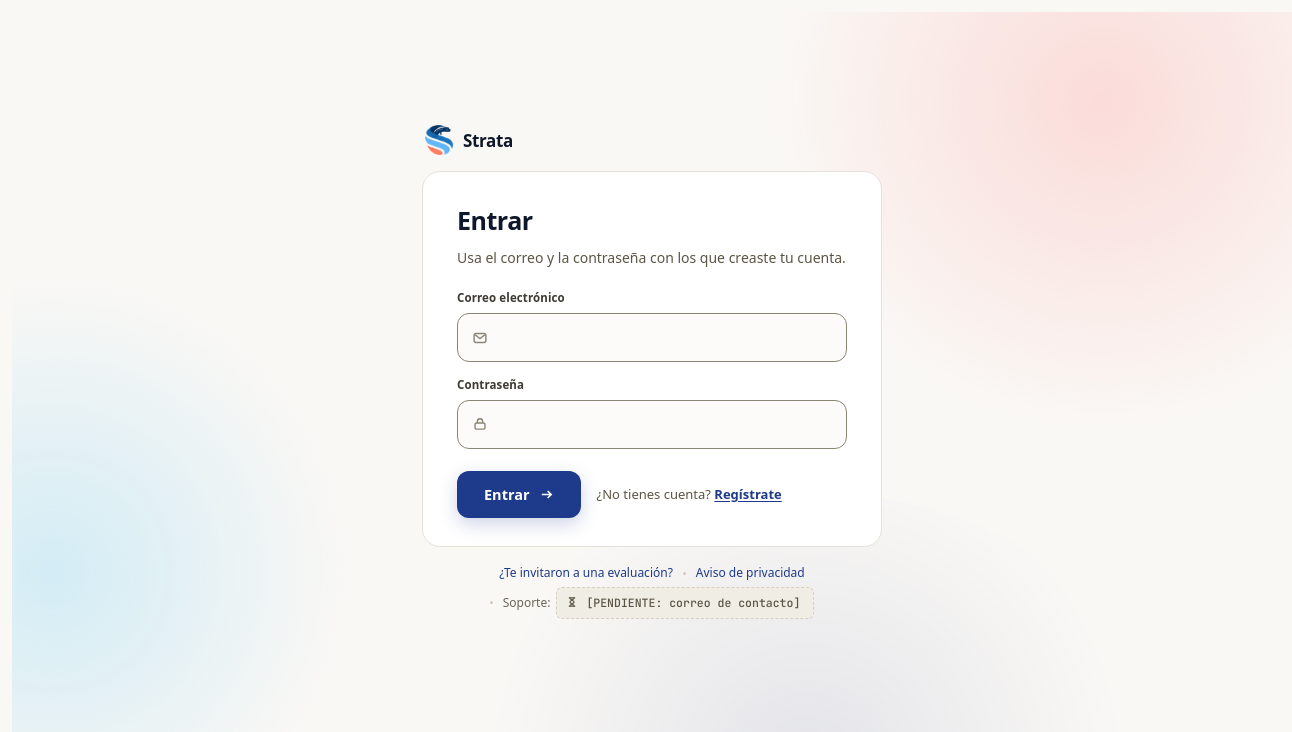
Scenario: Login › si no puede abrir la ruta de origen, conserva la redirección de siempre
In the field labelled "Correo electrónico": [667, 338] box top-left (488, 314), bottom-right (846, 361), type "ana@empresa.mx"
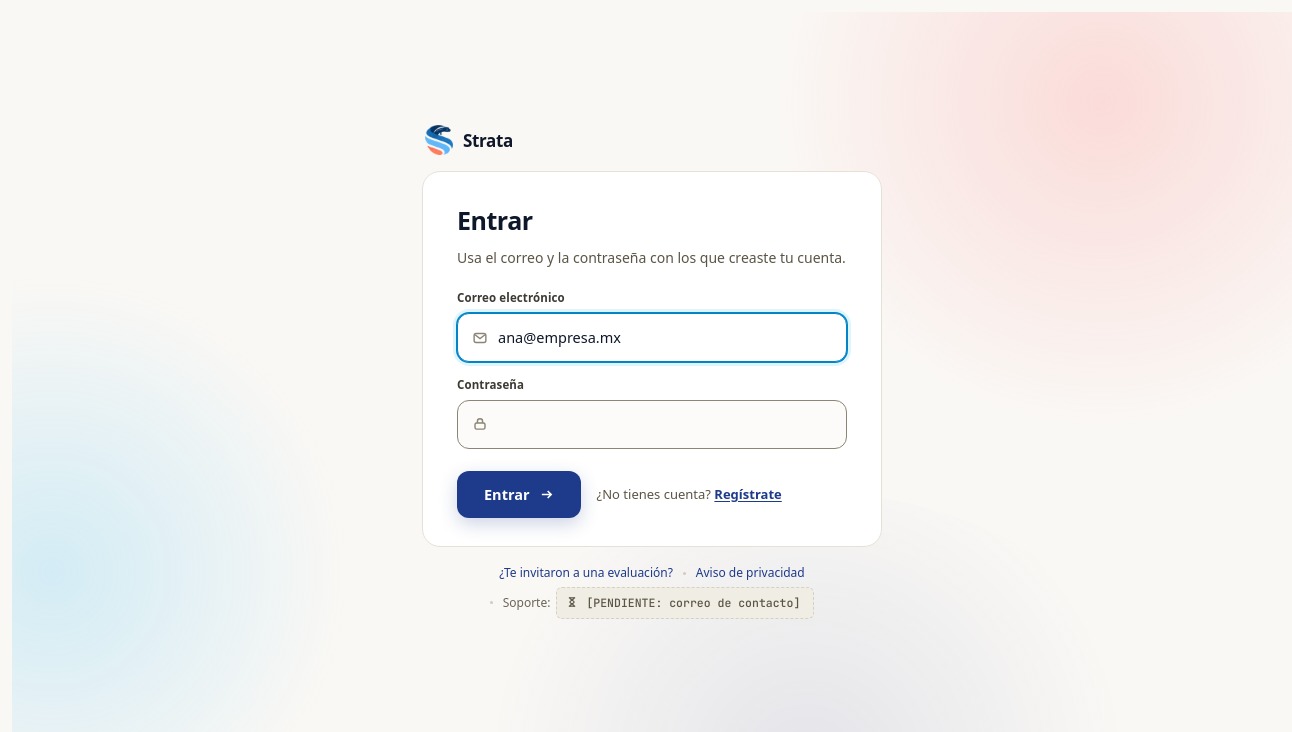
In the password field labelled "Contraseña": [667, 424] box top-left (488, 401), bottom-right (846, 448), type "secreta123"
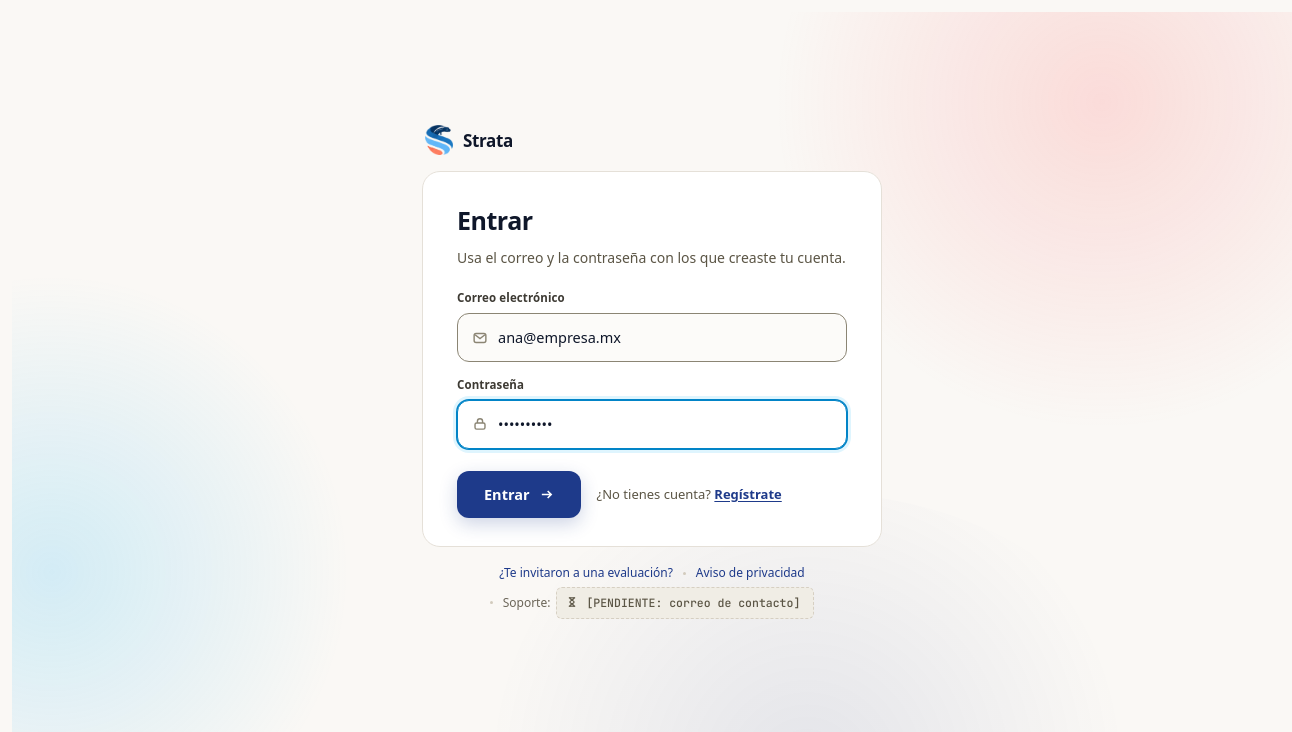
Click the button "Entrar": [519, 495] box top-left (457, 471), bottom-right (581, 518)
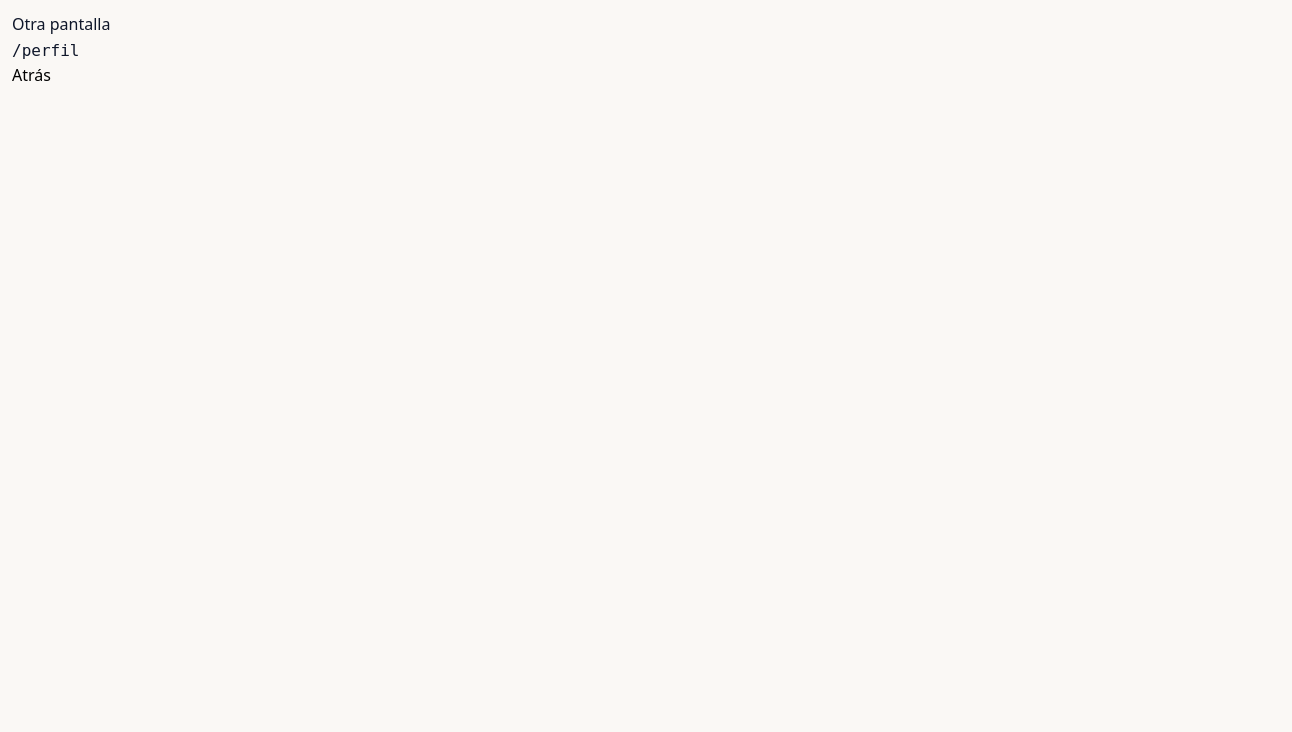
Expected: the text "Otra pantalla" is shown, top-left (12, 13), bottom-right (110, 35)
Expected: the text with test id "ubicacion" reads "/perfil", top-left (12, 41), bottom-right (79, 60)
